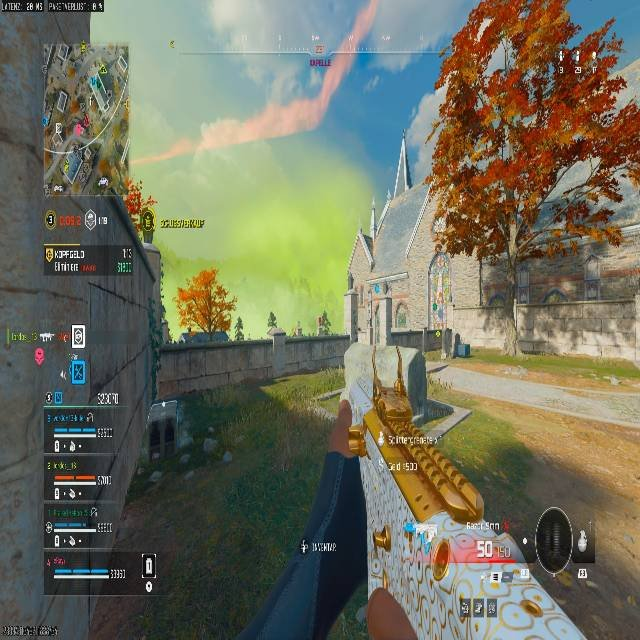player: (317, 310, 331, 336), (233, 316, 244, 340)
